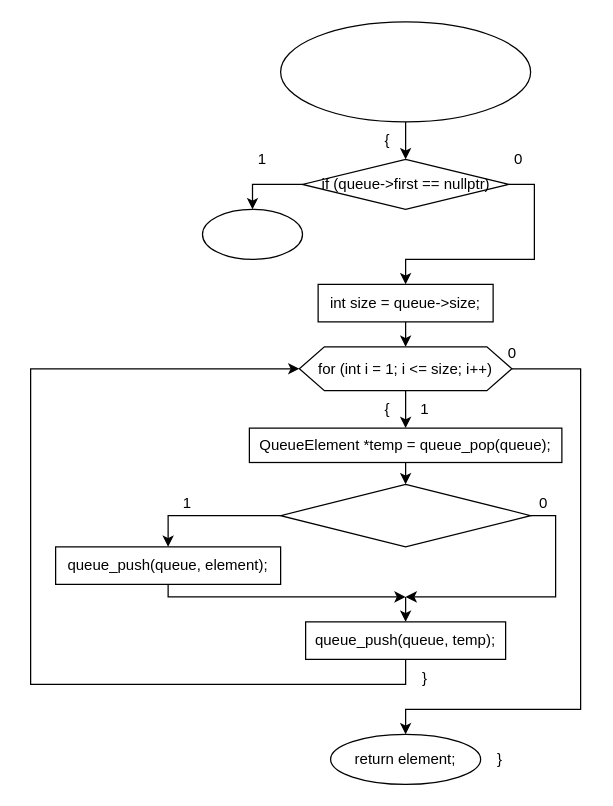
Image size: 613x806. Some labels were removed from this diagram. The shapes that lost their labels are listed below. From the top down, each one's centre as x and y in pixels, then its label:
point 405,71: bool queue_queue_insert(Queue *queue, QueueElement *element, const string key)
point 251,233: return false;
point 405,515: if (queue->first->key == key)
